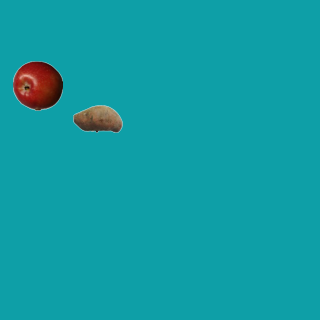Apple Braeburn: (12, 60, 62, 110)
Potato Sweet: (72, 93, 122, 143)
